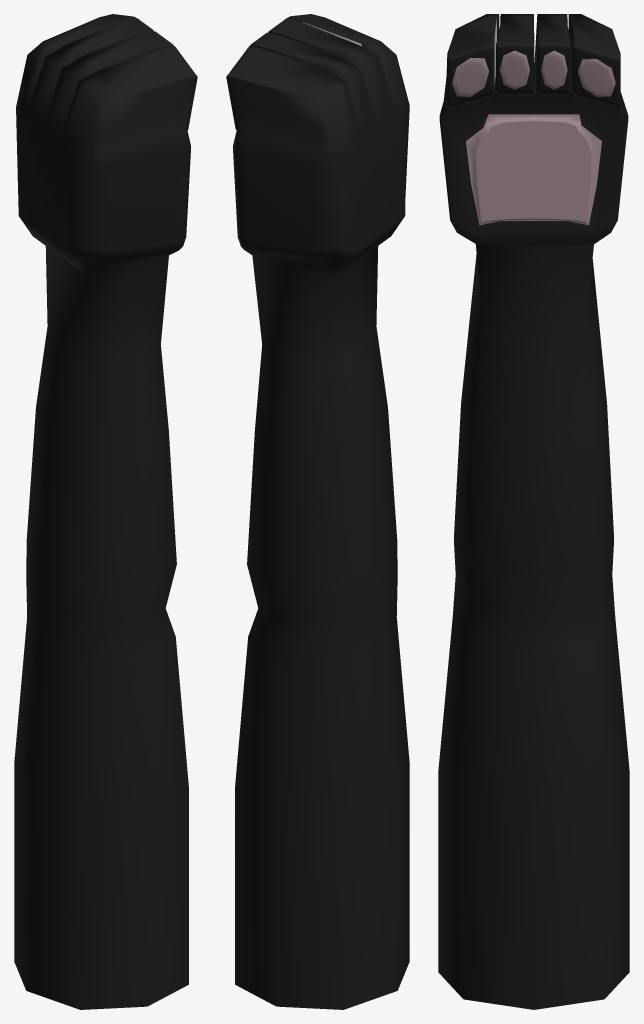
File: Cat_Paw_01.fbx
3 renders of one model, left to right at view 1: azimuth 30°, elevation 25°; view 2: azimuth 150°, elevation 25°; view 3: azimuth 270°, elevation 25°, orthographic. The views are drawn at different scales.
Parts seen in each view (by area): view 1: Cat_Paw_02; view 2: Cat_Paw_02; view 3: Cat_Paw_02.
Part boxes in pixels (bbox=[...]): Cat_Paw_02: bbox=[14, 14, 197, 1009]; Cat_Paw_02: bbox=[226, 14, 409, 1009]; Cat_Paw_02: bbox=[438, 14, 629, 1009].
Bounding box in the file's own units: 0.9396 × 5.58 × 1.01.
